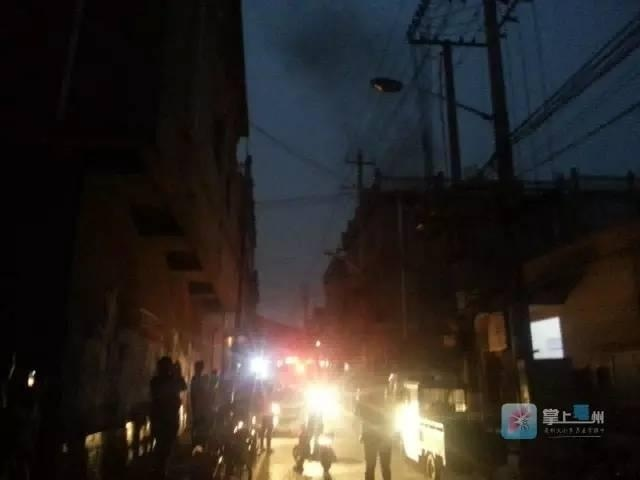fire: (395, 400, 424, 454)
